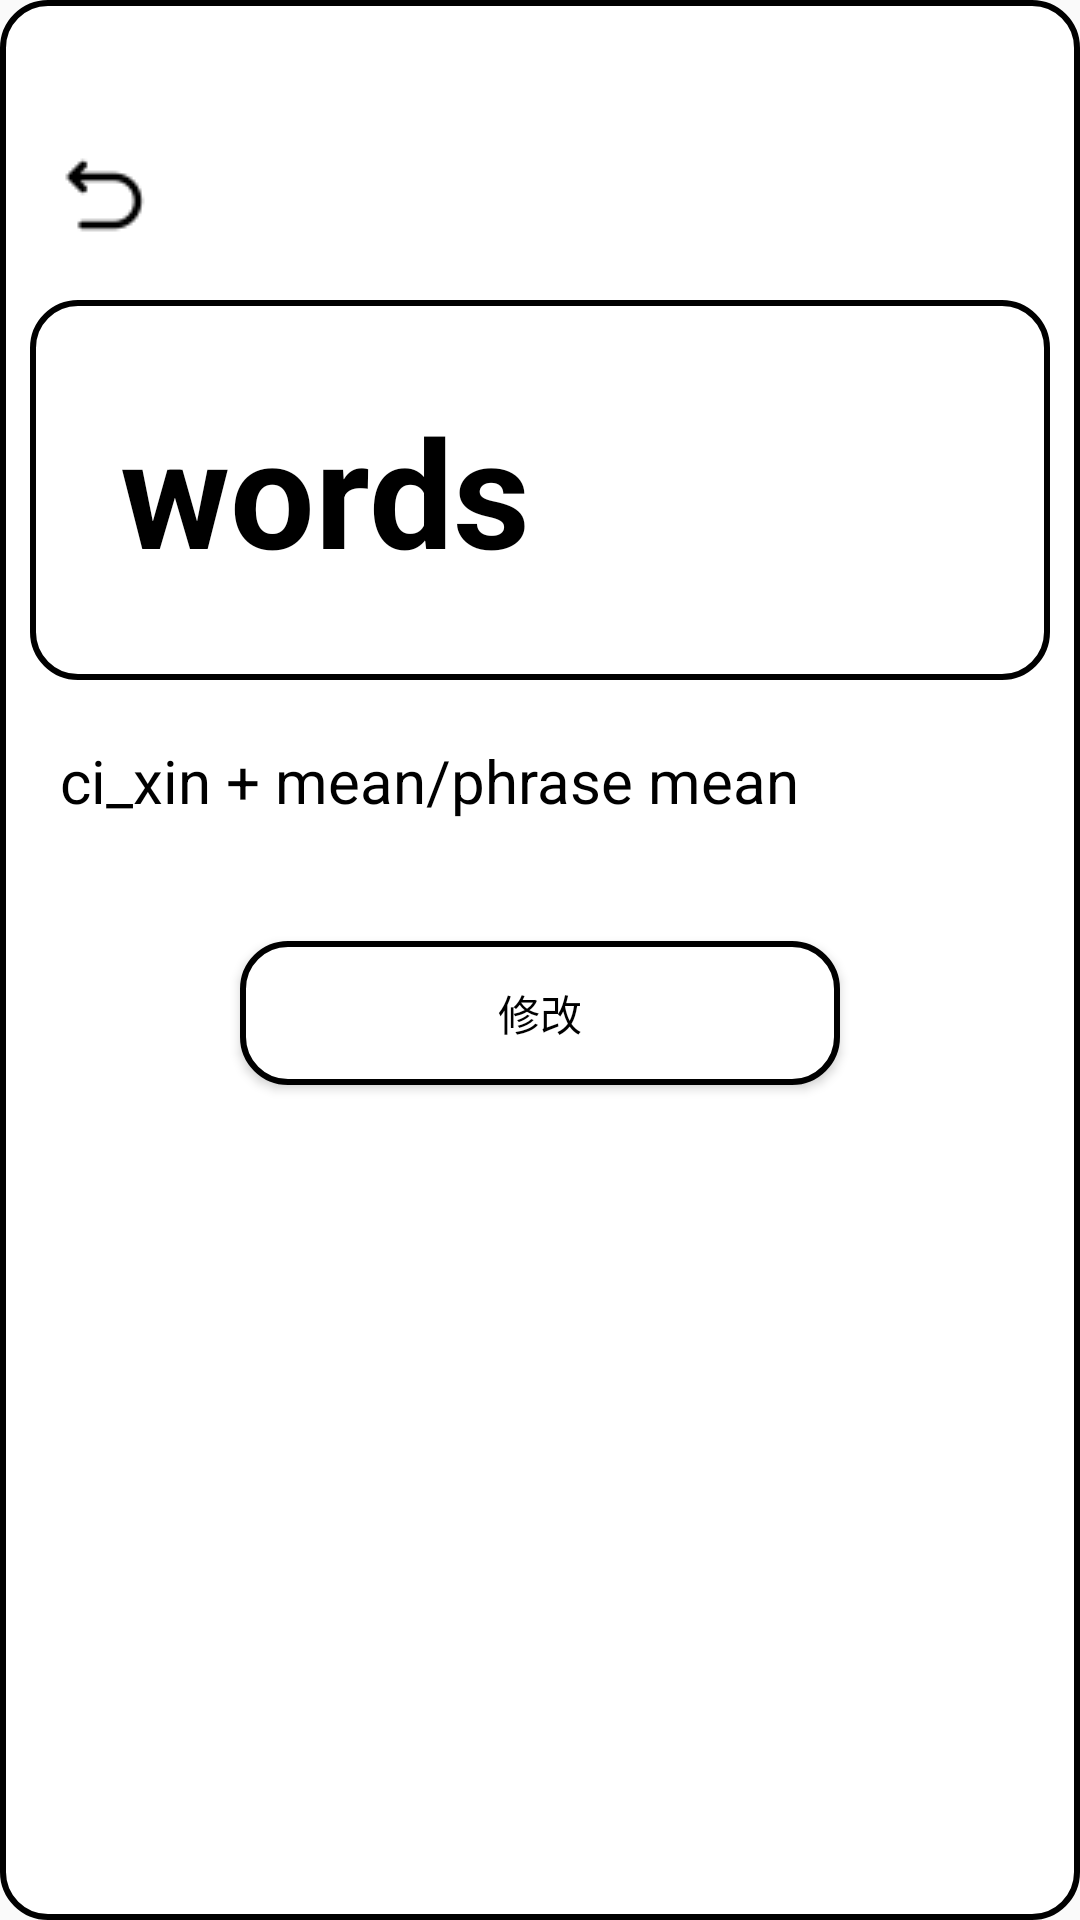

Point at icon controls on the screen. Image size 1080*1920, points as (x=x, y=y).
back: (x=104, y=195)
